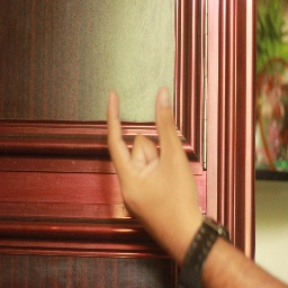U: (100, 76, 197, 210)
